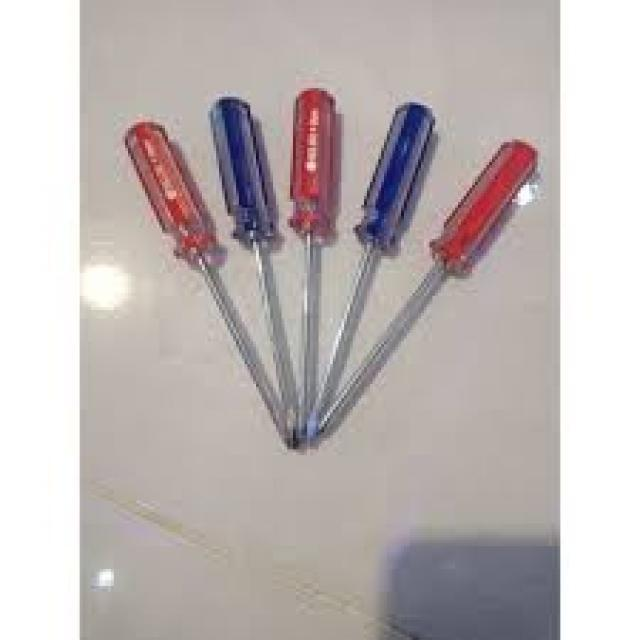screwdriver: (318, 133, 540, 440), (120, 118, 298, 454), (306, 97, 436, 450), (208, 92, 302, 448), (287, 84, 344, 442)
